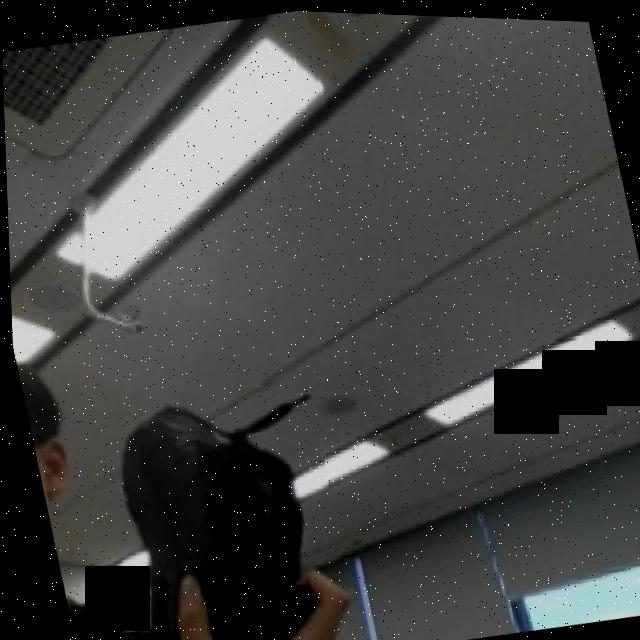shoe: (84, 362, 357, 640)
